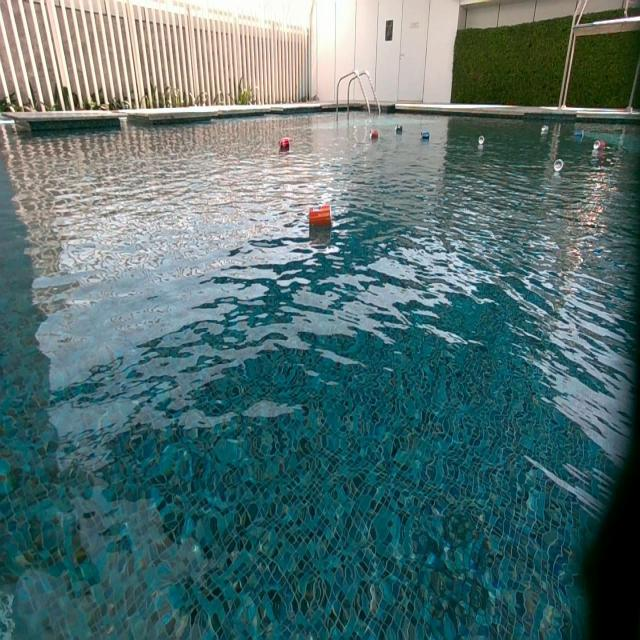Cans: (308, 204, 331, 228), (279, 139, 291, 152), (594, 140, 606, 152), (554, 161, 565, 173), (573, 131, 583, 141), (421, 132, 431, 142), (369, 130, 377, 142), (394, 125, 404, 134), (540, 126, 548, 134), (479, 136, 486, 145)
